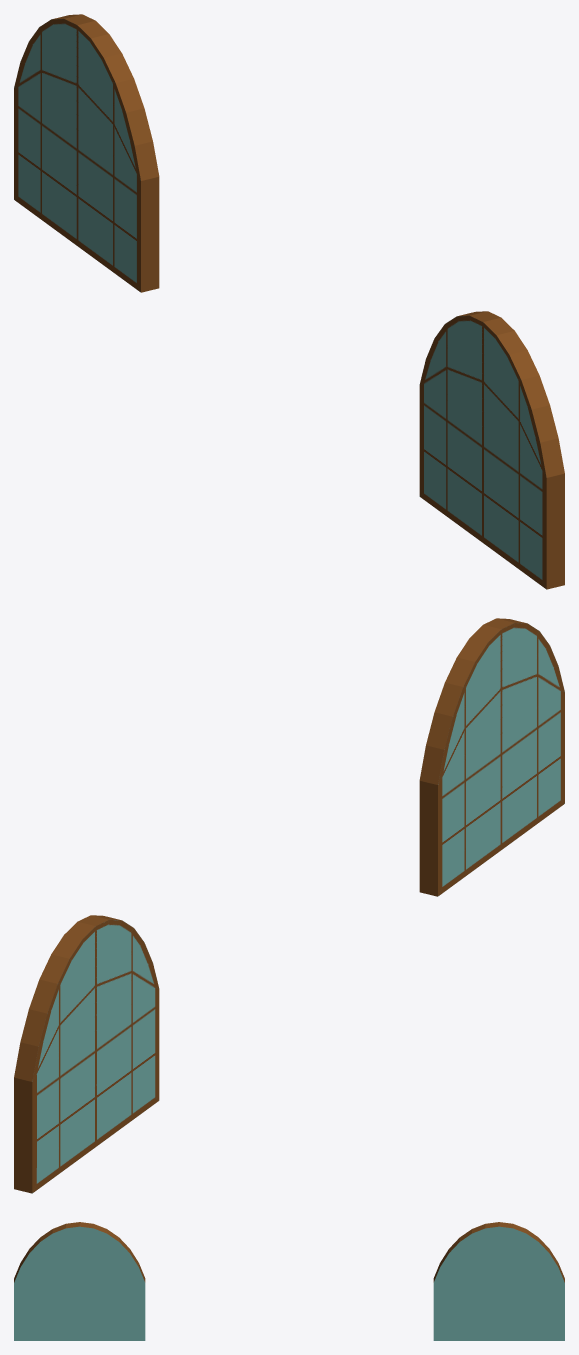
Rendered from VentanasFrente.obj.
3 views of the same model, one above another, from view 1: azimuth 30°, elevation 25°; view 2: azimuth 150°, elevation 25°; view 3: azimuth 270°, elevation 25° (orthographic). The views are drawn at different scales.
Parts seen in each view (by area): view 1: Cube.004_Cube.013; view 2: Cube.004_Cube.013; view 3: Cube.004_Cube.013.
Part boxes in pixels (<box>): Cube.004_Cube.013: <box>14,14,564,589</box>; Cube.004_Cube.013: <box>14,618,564,1193</box>; Cube.004_Cube.013: <box>14,1222,564,1340</box>.
Size of the model in its own units: 2.24 by 25.8 by 113.
Materials: 1 (1 with a texture image).
